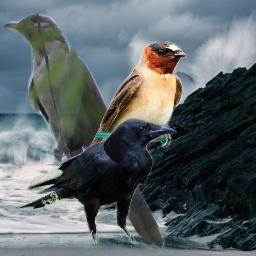Crow: (18, 118, 178, 244)
Cuckoo: (4, 13, 171, 250)
Swallow: (76, 41, 187, 199)
